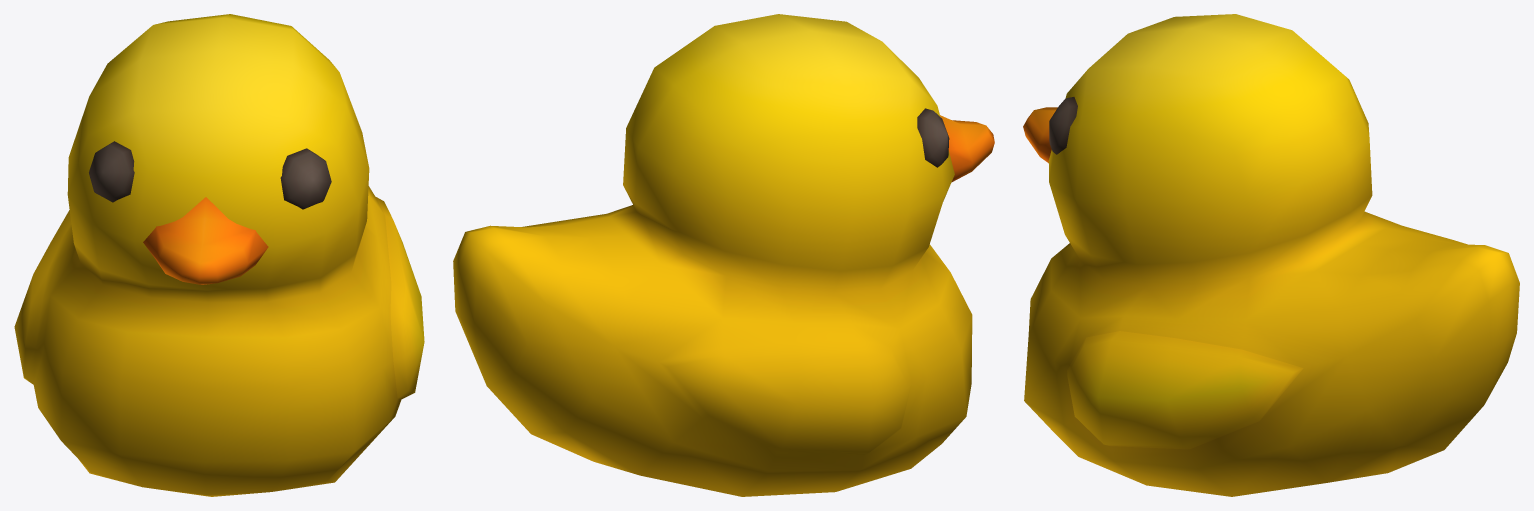
Rendered from Duck.fbx.
The picture shows the model from 3 angles, left to right: view 1: azimuth 30°, elevation 25°; view 2: azimuth 150°, elevation 25°; view 3: azimuth 270°, elevation 25°; orthographic projection.
Parts seen in each view (by area): view 1: Duck; view 2: Duck; view 3: Duck.
Boxes of the visible parts, left/top/right/bottom form: Duck: left=14, top=14, right=424, bottom=496; Duck: left=453, top=14, right=994, bottom=496; Duck: left=1023, top=14, right=1519, bottom=496.
Bounding box in the file's own units: 1278 × 1382 × 1474.
Materials: 1 (1 with a texture image).
